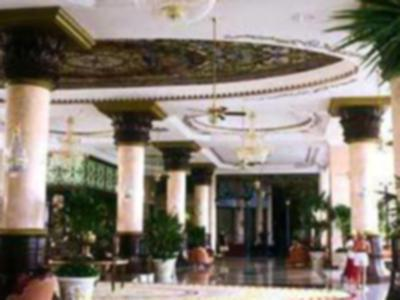Matera: (61, 186, 110, 300), (391, 160, 400, 300)
